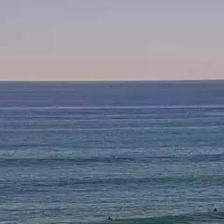surfer: (107, 216, 114, 222), (213, 208, 218, 212)
